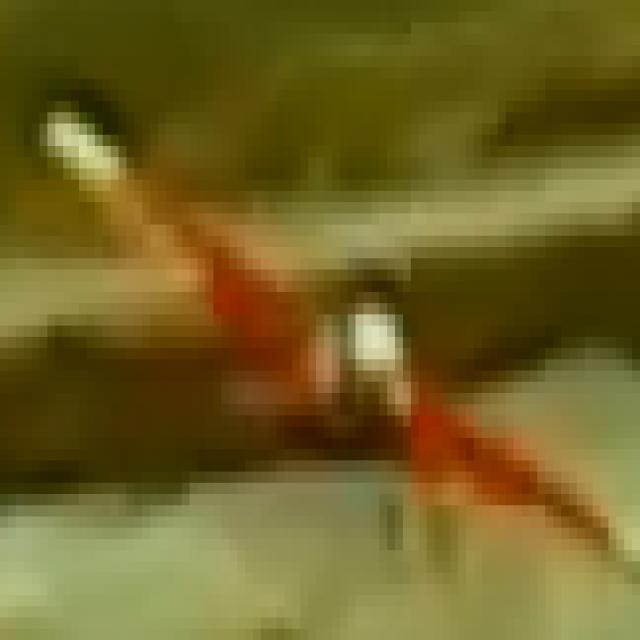iha: (15, 48, 600, 539)
